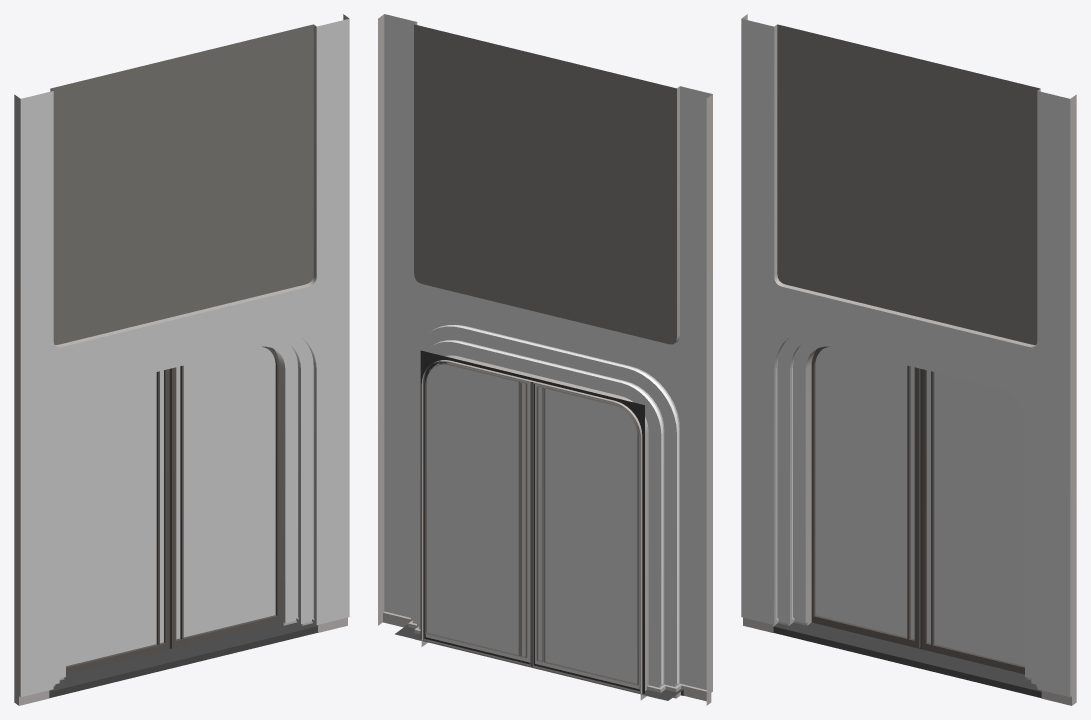
File: MMo_W_001_DR_a_6x10.fbx
The picture shows the model from 3 angles, left to right: view 1: azimuth 30°, elevation 25°; view 2: azimuth 150°, elevation 25°; view 3: azimuth 330°, elevation 25°; orthographic projection.
Visible parts, largest first — view 1: MMo_W_001_DR_a_6x10; view 2: MMo_W_001_DR_a_6x10; view 3: MMo_W_001_DR_a_6x10.
Boxes of the visible parts, x1=… form: MMo_W_001_DR_a_6x10: x1=14, y1=14, x2=349, y2=705; MMo_W_001_DR_a_6x10: x1=378, y1=14, x2=712, y2=705; MMo_W_001_DR_a_6x10: x1=741, y1=14, x2=1076, y2=705.
Size of the model in its own units: 6 by 10.6 by 0.55.
